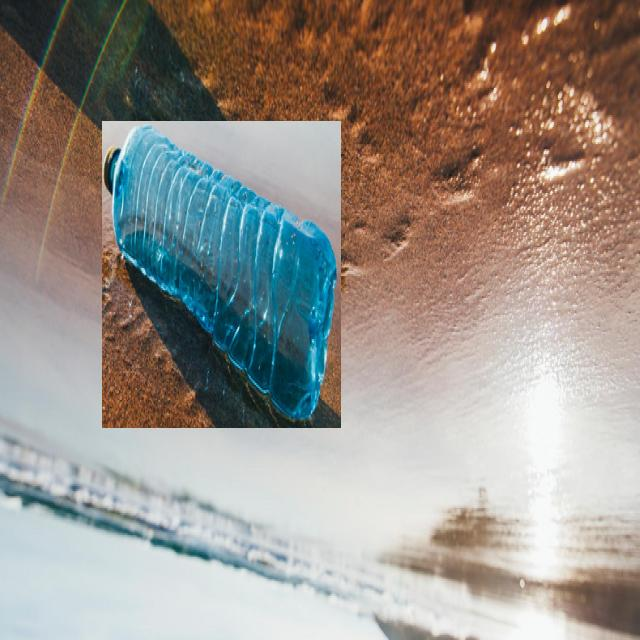Plastic Bottle: (102, 121, 341, 428)
